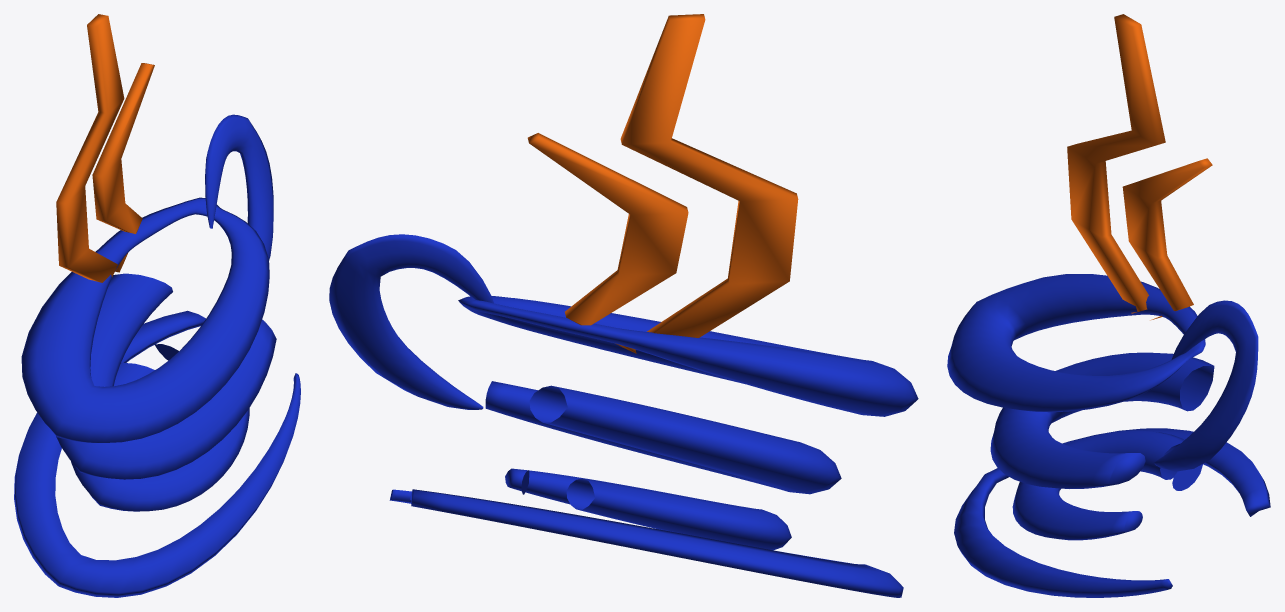
Rendered from java.glb.
3 views of the same model, side by side, from view 1: azimuth 30°, elevation 25°; view 2: azimuth 150°, elevation 25°; view 3: azimuth 270°, elevation 25° (orthographic). The views are drawn at different scales.
Visible parts, largest first — view 1: Torus.004, Plane.003; view 2: Torus.004, Plane.003; view 3: Torus.004, Plane.003.
Boxes of the visible parts, x1,y1,x2,y2 form: Torus.004: (14,114,300,597); Plane.003: (56,14,154,282); Torus.004: (329,234,918,597); Plane.003: (527,14,798,353); Torus.004: (947,274,1270,597); Plane.003: (1067,14,1212,320).
Size of the model in its own units: 1.88 by 2.61 by 1.42.
